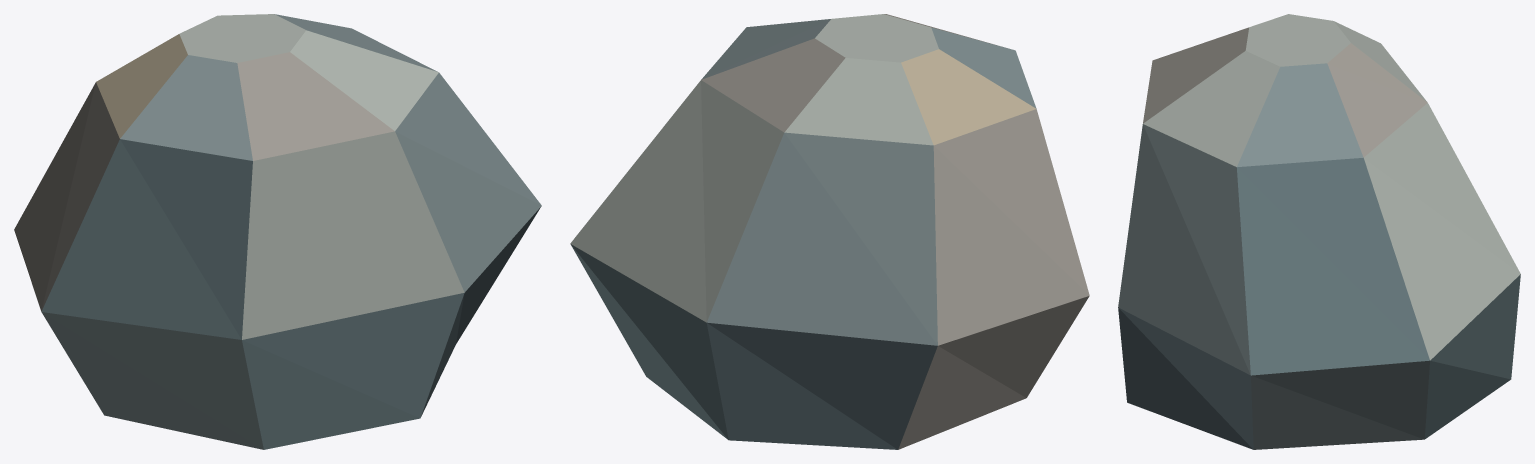
Rendered from Rock_03.obj.
3 views of the same model, side by side, from view 1: azimuth 30°, elevation 25°; view 2: azimuth 150°, elevation 25°; view 3: azimuth 270°, elevation 25° (orthographic). The views are drawn at different scales.
Parts seen in each view (by area): view 1: Rock_03; view 2: Rock_03; view 3: Rock_03.
Boxes of the visible parts, bbox=[...] form: Rock_03: bbox=[14, 14, 541, 449]; Rock_03: bbox=[570, 14, 1089, 449]; Rock_03: bbox=[1118, 14, 1520, 449].
Size of the model in its own units: 1.65 by 1.1 by 1.25.
Materials: 1 (1 with a texture image).
